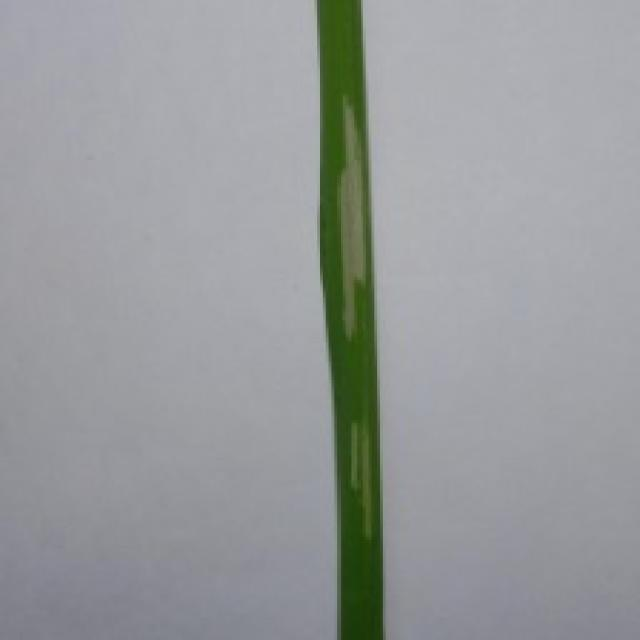Bacterial_Blight: (335, 87, 377, 342), (343, 416, 382, 551)
